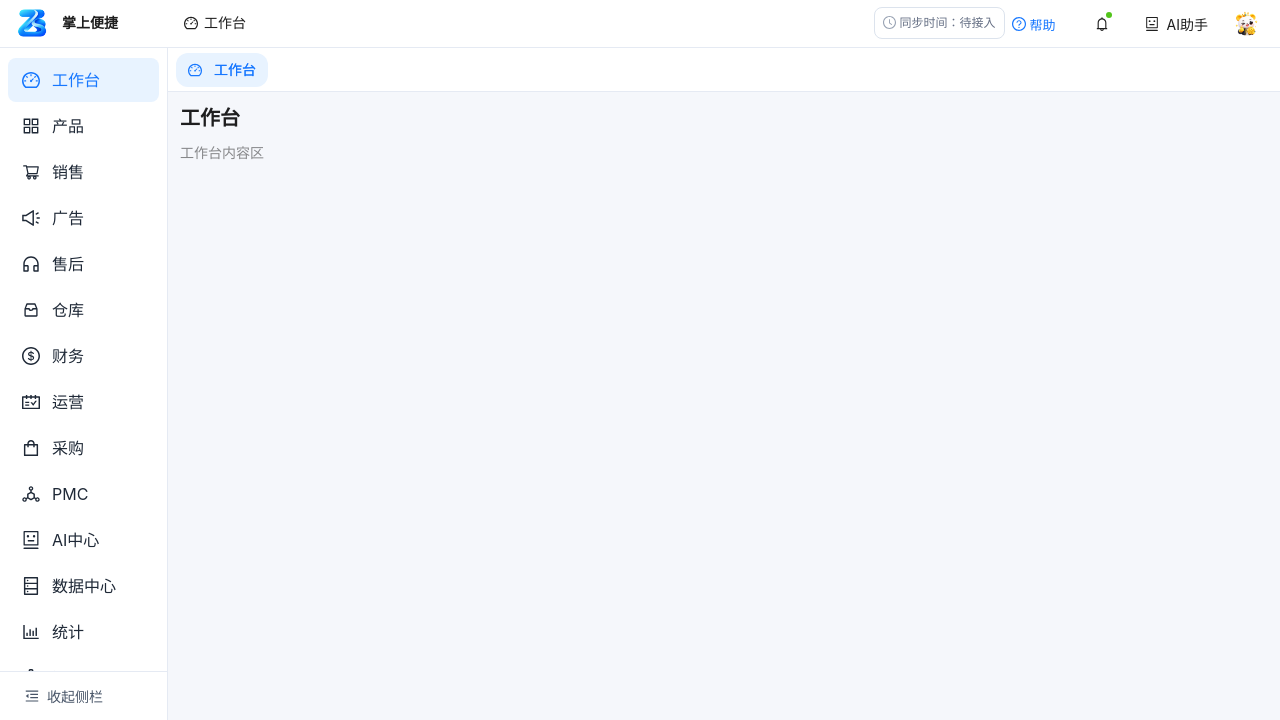
MainLayout › keeps Home fixed and closes an inactive tab predictably
Click the menu item "广告" at (53, 218), box left=22, top=208, right=84, bottom=228
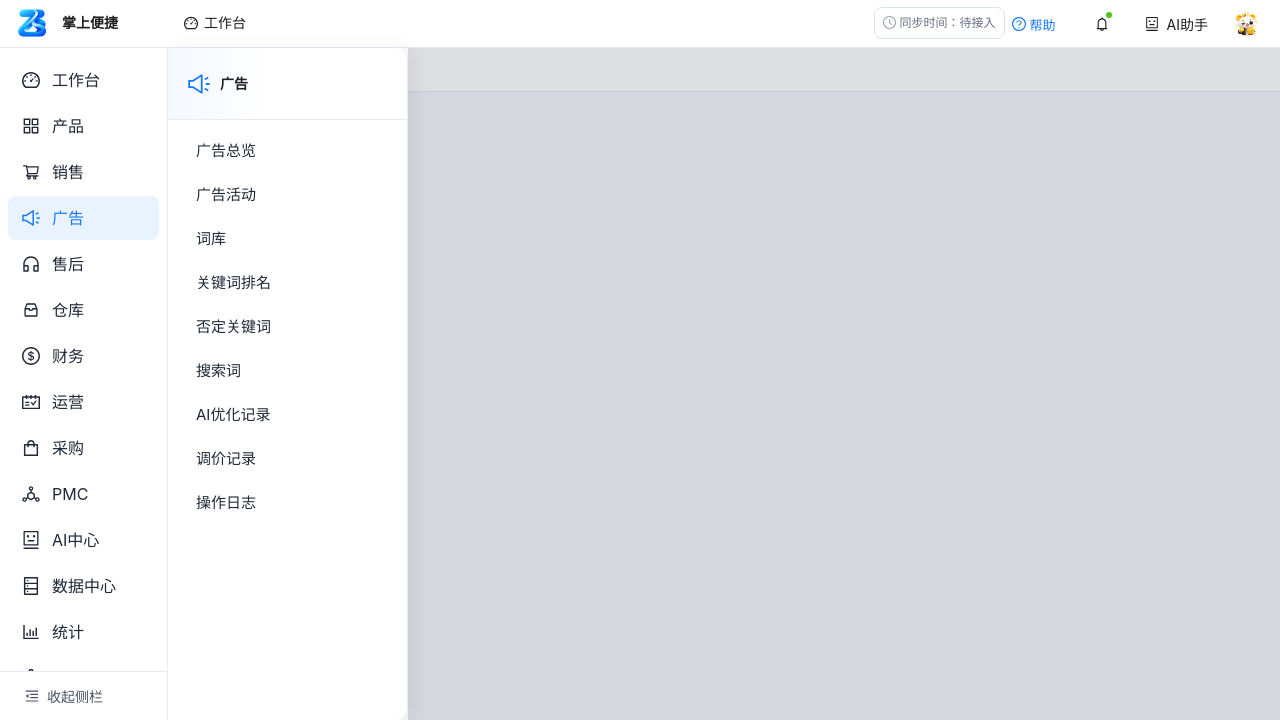
Click the menu item "词库" at (211, 238), box left=196, top=229, right=226, bottom=248
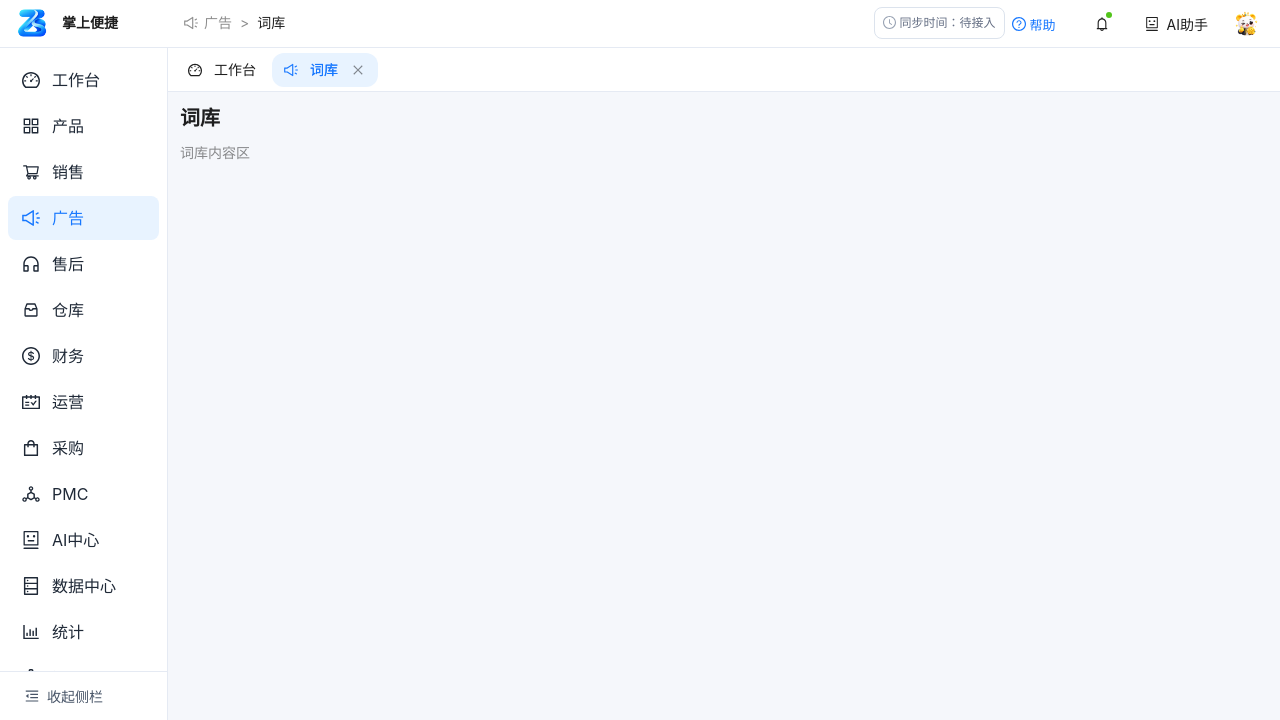
Click the tab "工作台" at (222, 70), box left=188, top=59, right=256, bottom=81
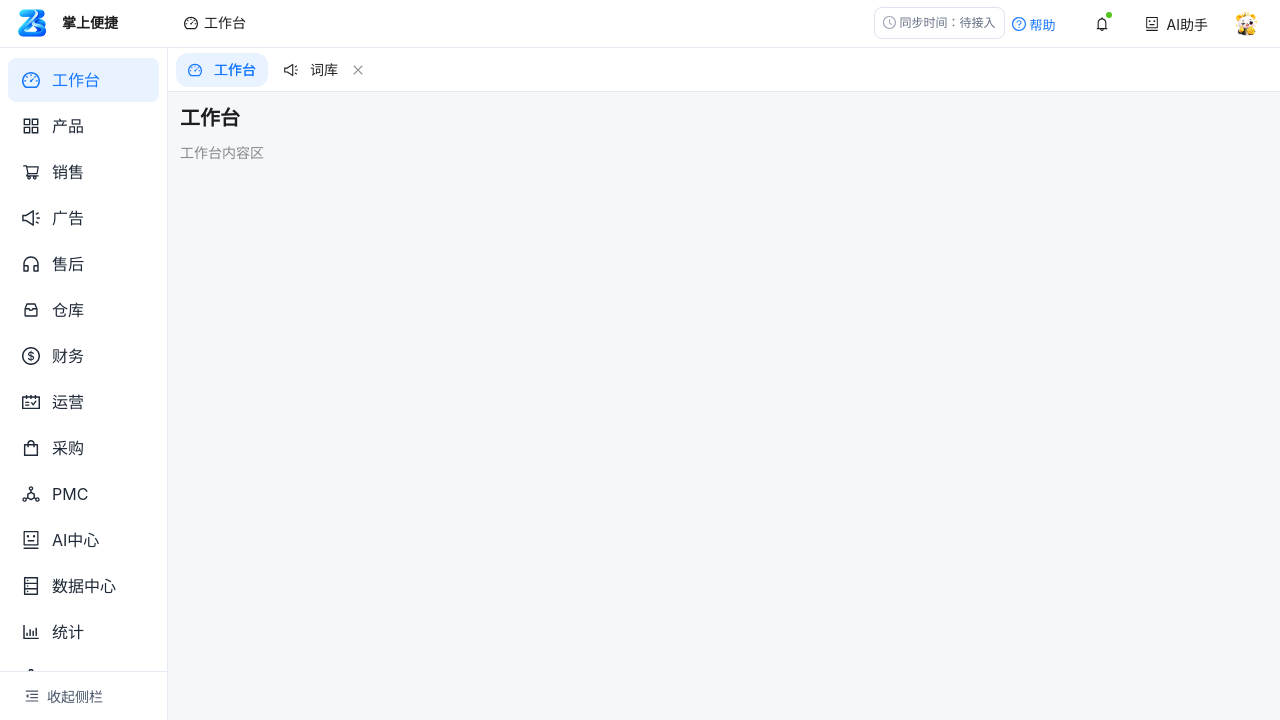
Click the tab named "关闭标签页" at (358, 70), box left=346, top=63, right=370, bottom=77
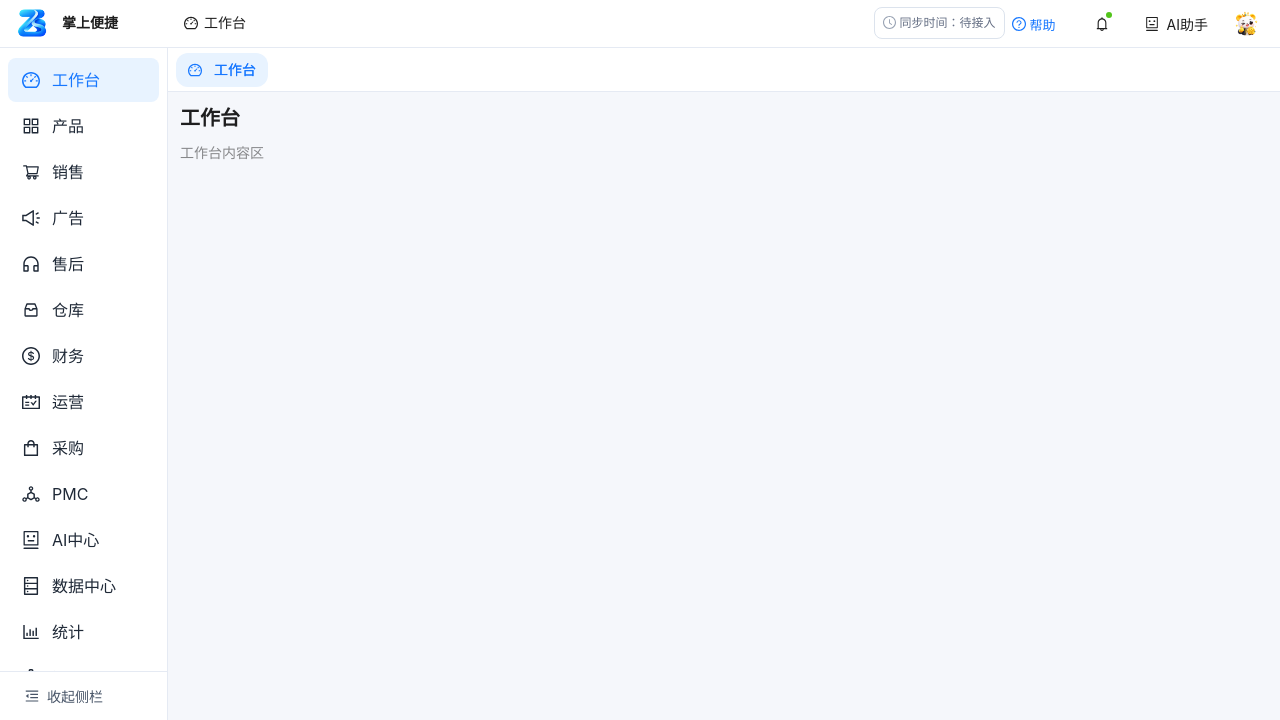
Expected: the heading named "当前页面" reads "工作台", left=180, top=106, right=240, bottom=130
Expected: the tab "词库" is gone
